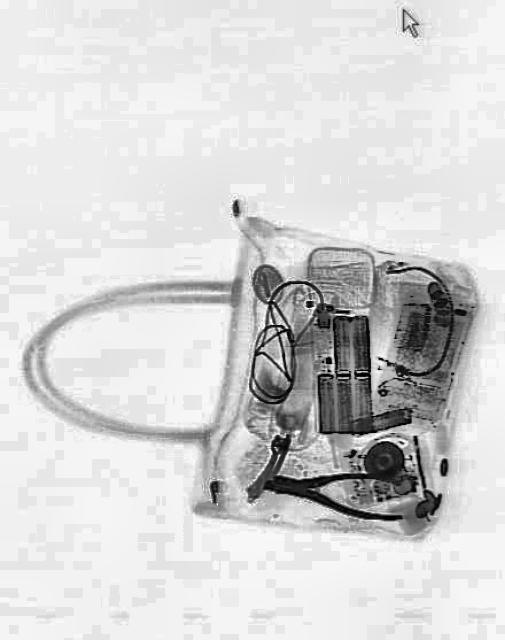Pliers: (260, 456, 404, 522)
